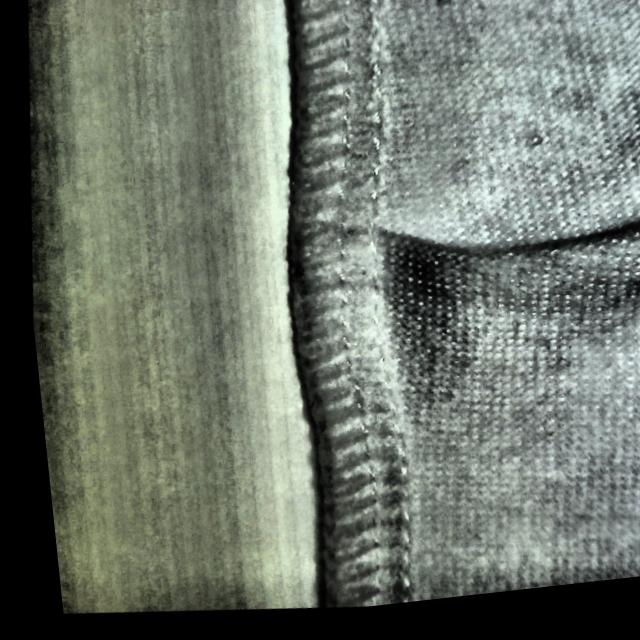seam: (266, 152, 635, 380)
